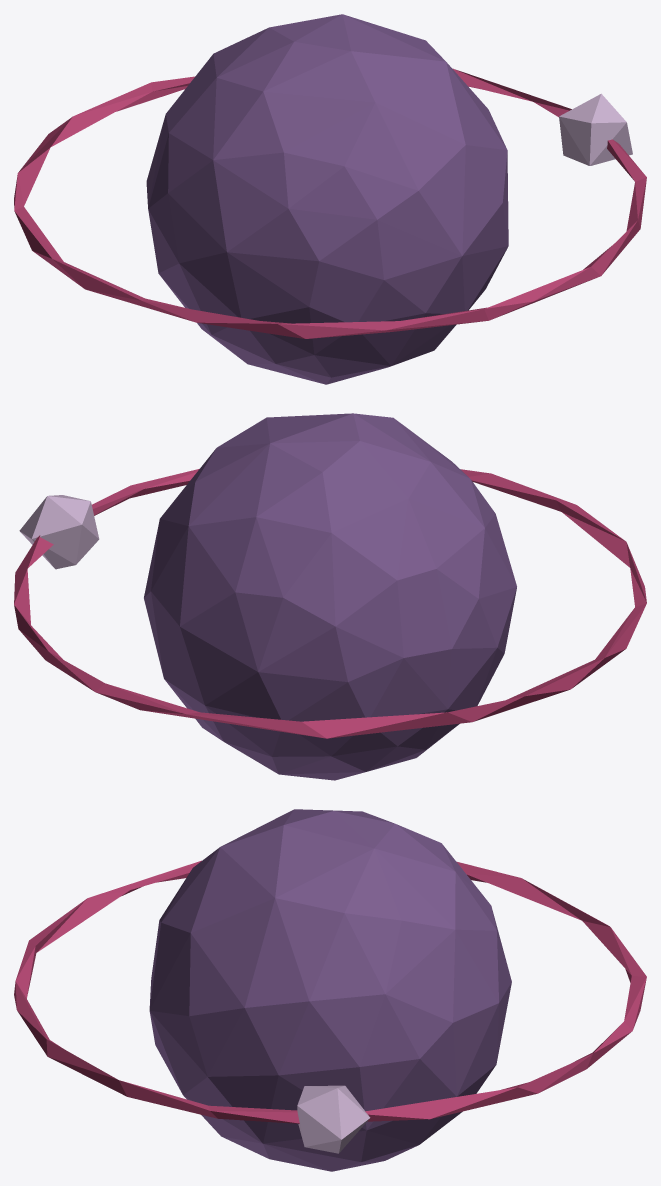
File: SM_PlanetC.fbx
3 renders of one model, top to bottom at view 1: azimuth 30°, elevation 25°; view 2: azimuth 150°, elevation 25°; view 3: azimuth 270°, elevation 25°, orthographic.
Parts seen in each view (by area): view 1: PlanetC; view 2: PlanetC; view 3: PlanetC.
Part boxes in pixels (box(x1,y1,x2,y2)): PlanetC: box(14, 14, 646, 384); PlanetC: box(14, 413, 646, 780); PlanetC: box(14, 809, 646, 1171).
Bounding box in the file's own units: 3.66 × 2.02 × 3.51.
1 material, 1 textured.
